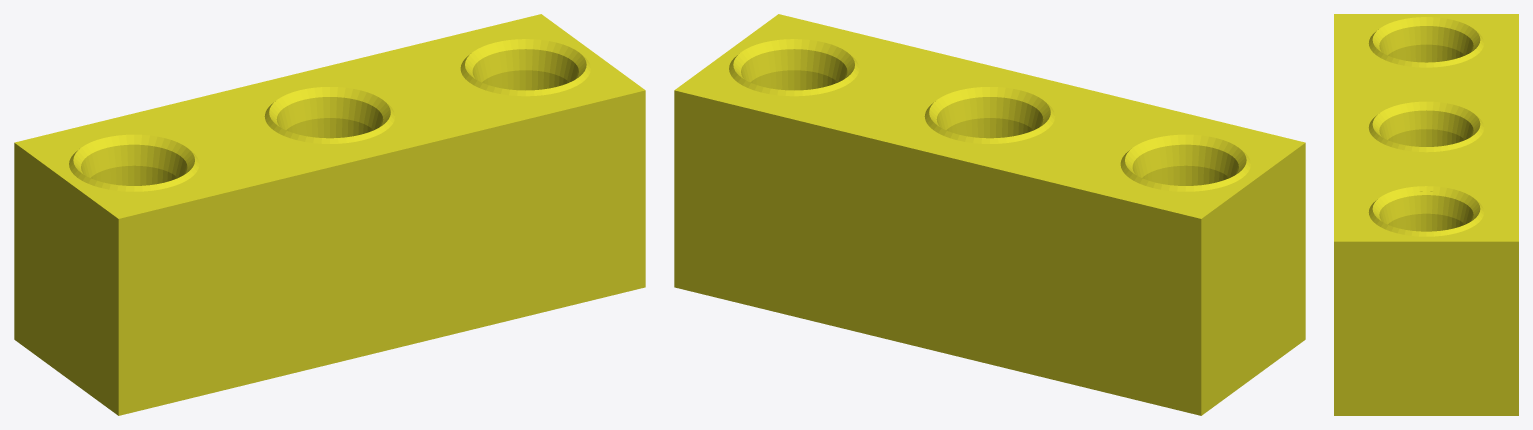
3 renders of one model, left to right at view 1: azimuth 30°, elevation 25°; view 2: azimuth 150°, elevation 25°; view 3: azimuth 270°, elevation 25°, orthographic. The views are drawn at different scales.
Visible parts, largest first — view 1: Cube.007; view 2: Cube.007; view 3: Cube.007.
Part boxes in pixels (left/top/right/bottom): Cube.007: left=14, top=14, right=645, bottom=415; Cube.007: left=674, top=14, right=1305, bottom=415; Cube.007: left=1334, top=14, right=1518, bottom=415.
Bounding box in the file's own units: 0.35 × 0.1275 × 0.12.
